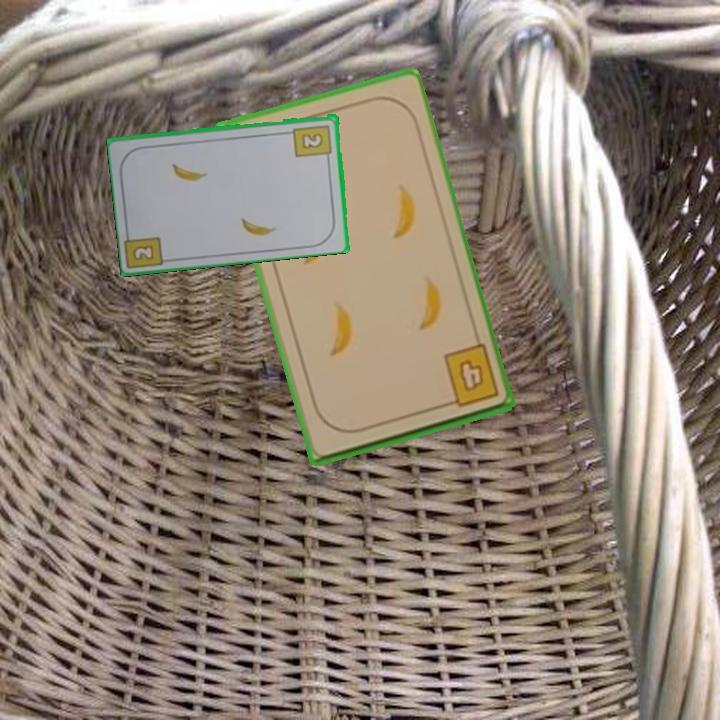2b: (290, 121, 335, 163), (129, 241, 157, 264)
4b: (438, 340, 501, 411)
